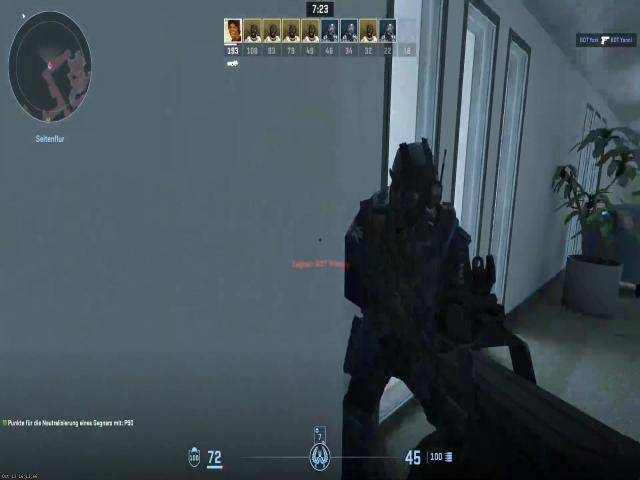CT: (338, 145, 471, 372)
CT-Head: (380, 136, 447, 222)
